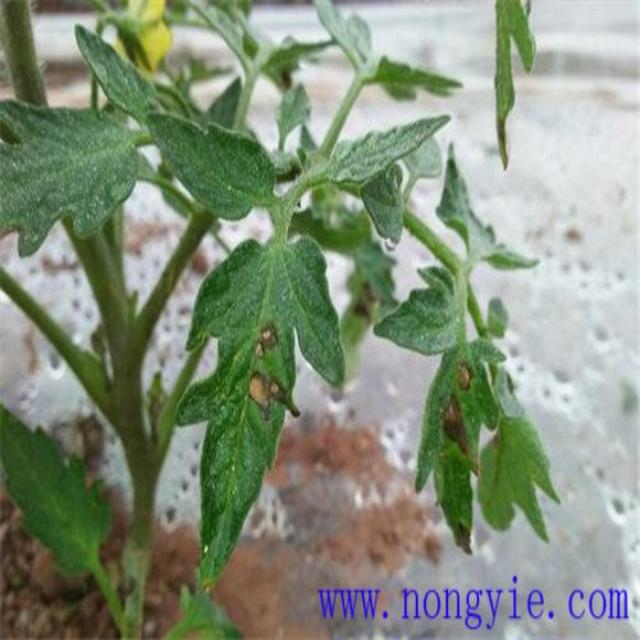Early_blight: (242, 372, 289, 423), (442, 395, 472, 454), (254, 321, 280, 362), (452, 358, 475, 393), (455, 524, 475, 555)
